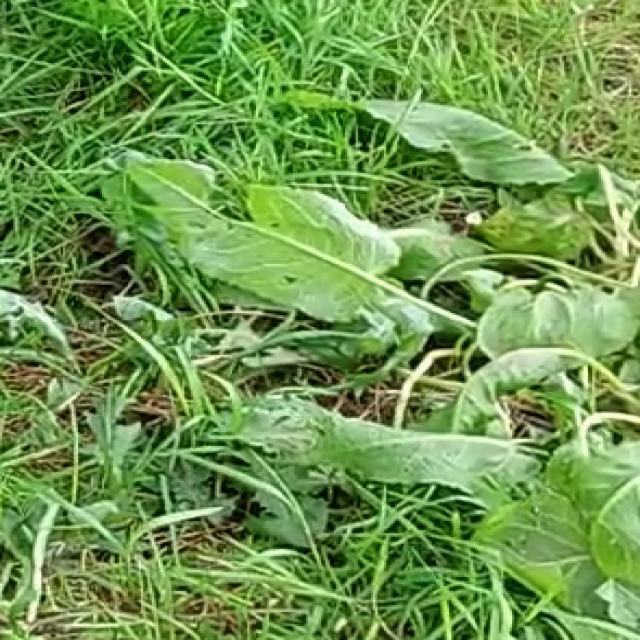organic waste: (160, 96, 640, 519)
